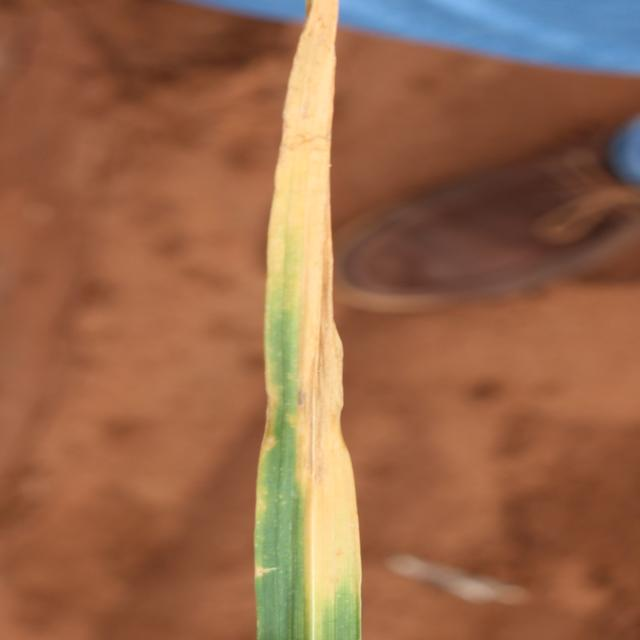Septoria: (252, 1, 363, 638)
